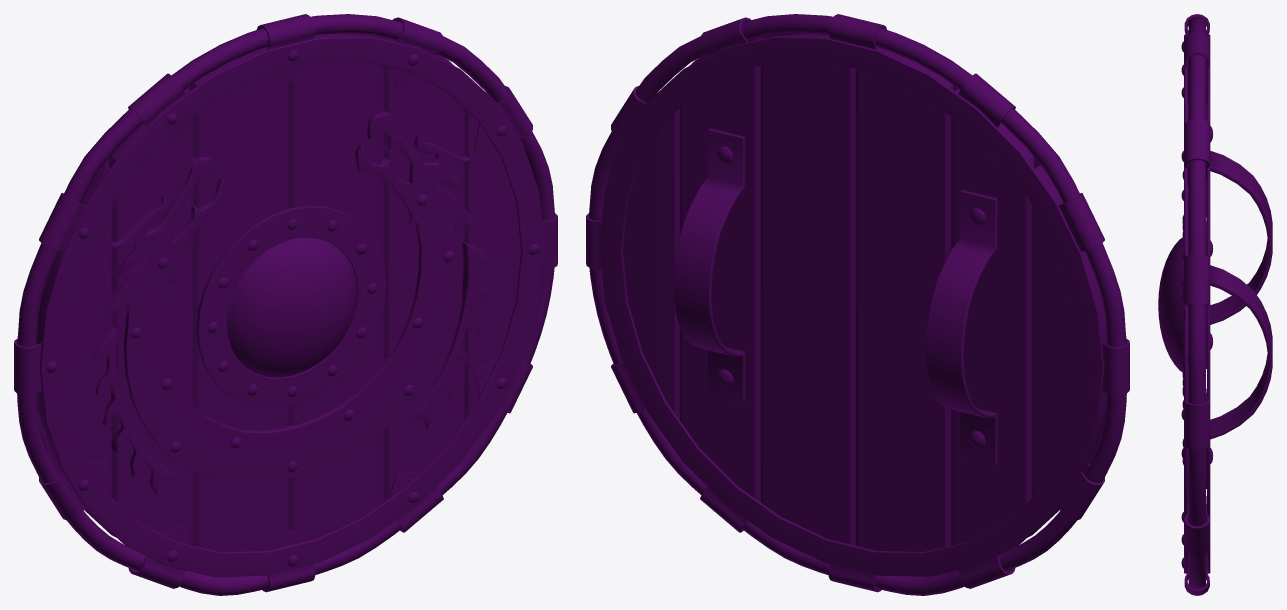
File: Goblin Shield.FBX
3 renders of one model, left to right at view 1: azimuth 30°, elevation 25°; view 2: azimuth 150°, elevation 25°; view 3: azimuth 270°, elevation 25°, orthographic. The views are drawn at different scales.
Parts seen in each view (by area): view 1: Shield007_Shield, Shield007_Dragons, Shield007_Rings, Shield007_Center, Shield007_Rope, Shield007_Loops; view 2: Shield007_Shield, Shield007_Rings, Shield007_Handles, Shield007_Rope, Shield007_Loops; view 3: Shield007_Rope, Shield007_Handles, Shield007_Loops, Shield007_Rings, Shield007_Center, Shield007_Dragons.
Part boxes in pixels (left/top/right/bottom): Shield007_Shield: left=36, top=33, right=518, bottom=551; Shield007_Dragons: left=91, top=111, right=491, bottom=494; Shield007_Rings: left=36, top=33, right=544, bottom=576; Shield007_Center: left=196, top=205, right=386, bottom=408; Shield007_Rope: left=17, top=14, right=555, bottom=595; Shield007_Loops: left=14, top=14, right=557, bottom=592; Shield007_Shield: left=623, top=33, right=1107, bottom=551; Shield007_Rings: left=599, top=33, right=1107, bottom=576; Shield007_Handles: left=673, top=128, right=997, bottom=464; Shield007_Rope: left=588, top=14, right=1126, bottom=595; Shield007_Loops: left=586, top=14, right=1129, bottom=592; Shield007_Rope: left=1188, top=17, right=1205, bottom=588; Shield007_Handles: left=1206, top=106, right=1272, bottom=483; Shield007_Loops: left=1184, top=14, right=1209, bottom=595; Shield007_Rings: left=1181, top=34, right=1210, bottom=573; Shield007_Center: left=1158, top=215, right=1183, bottom=394; Shield007_Dragons: left=1182, top=102, right=1188, bottom=499.
Bounding box in the file's own units: 0.6217 × 0.6217 × 0.1228.
